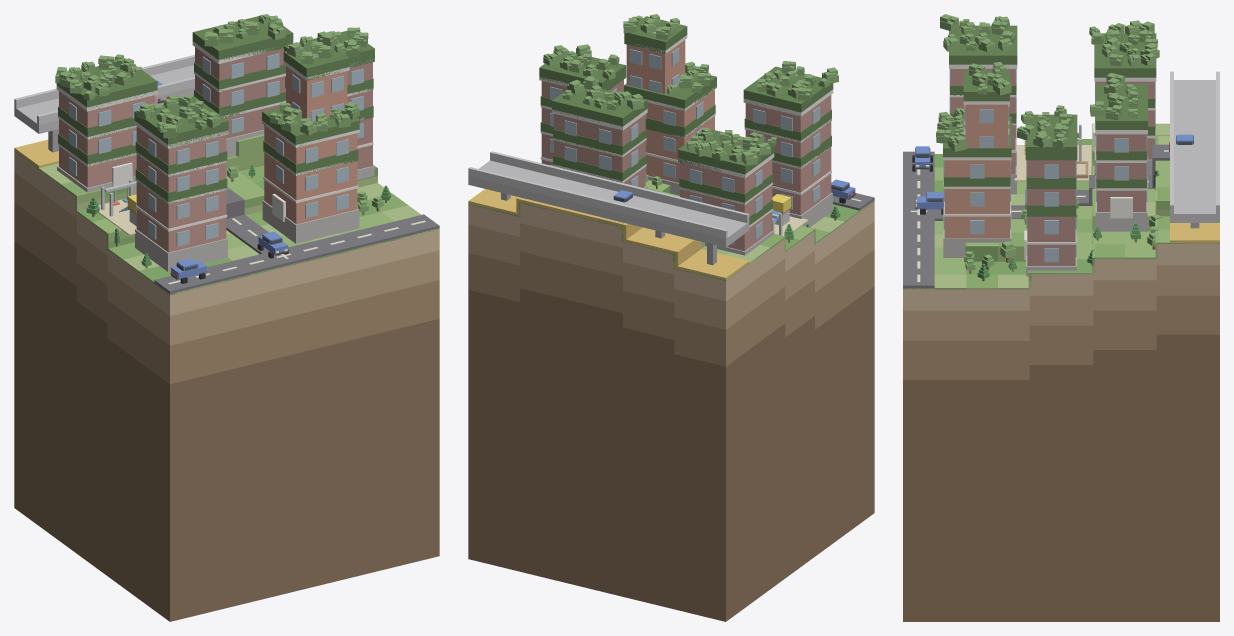
Rendered from block_6_greenroof_60.glb.
3 renders of one model, left to right at view 1: azimuth 30°, elevation 25°; view 2: azimuth 150°, elevation 25°; view 3: azimuth 270°, elevation 25°, orthographic. The views are drawn at different scales.
Parts seen in each view (by area): view 1: Patch_UpperLeft_b01_GR, Res_UL_04_GR, Res_UL_01_GR, Green_UpperLeft_j4_b01_GR, Roads_UpperLeft_b01_GR, Res_UL_00_GR, Res_UL_02_GR, GR_Roof_Res_UL_02_GR, GR_Roof_Res_UL_01_GR, GR_Roof_Res_UL_04_GR, Bridge_UpperLeft_b01_GR, GR_Roof_Res_UL_00_GR (+5 smaller); view 2: Patch_UpperLeft_b01_GR, Bridge_UpperLeft_b01_GR, Res_UL_01_GR, Res_UL_04_GR, Res_UL_00_GR, Paver_UpperLeft_b01_GR, Res_UL_02_GR, GR_Roof_Res_UL_02_GR, GR_Roof_Res_UL_04_GR, GR_Roof_Res_UL_01_GR, Green_UpperLeft_j4_b01_GR, GR_Roof_Res_UL_00_GR (+3 smaller); view 3: Patch_UpperLeft_b01_GR, Green_UpperLeft_j4_b01_GR, Res_UL_04_GR, Bridge_UpperLeft_b01_GR, Roads_UpperLeft_b01_GR, Res_UL_03_GR, Res_UL_02_GR, GR_Roof_Res_UL_03_GR, GR_Roof_Res_UL_02_GR, GR_Roof_Res_UL_04_GR, GR_Roof_Res_UL_01_GR, GR_Roof_Res_UL_00_GR (+6 smaller).
Boxes of the visible parts, box(x1,y1,x2,y2) form: Patch_UpperLeft_b01_GR: box(14, 152, 439, 621); Res_UL_04_GR: box(262, 51, 359, 243); Res_UL_01_GR: box(134, 120, 228, 271); Green_UpperLeft_j4_b01_GR: box(14, 134, 439, 294); Roads_UpperLeft_b01_GR: box(154, 187, 439, 295); Res_UL_00_GR: box(56, 85, 157, 194); Res_UL_02_GR: box(192, 41, 285, 157); GR_Roof_Res_UL_02_GR: box(192, 14, 293, 117); GR_Roof_Res_UL_01_GR: box(134, 96, 228, 203); GR_Roof_Res_UL_04_GR: box(262, 45, 359, 175); Bridge_UpperLeft_b01_GR: box(14, 55, 194, 152); GR_Roof_Res_UL_00_GR: box(56, 65, 157, 165); Patch_UpperLeft_b01_GR: box(468, 201, 874, 621); Bridge_UpperLeft_b01_GR: box(468, 151, 749, 265); Res_UL_01_GR: box(743, 89, 833, 227); Res_UL_04_GR: box(625, 27, 716, 195); Res_UL_00_GR: box(678, 153, 774, 255); Paver_UpperLeft_b01_GR: box(468, 189, 749, 280); Res_UL_02_GR: box(552, 109, 647, 188); GR_Roof_Res_UL_02_GR: box(552, 84, 647, 182); GR_Roof_Res_UL_04_GR: box(624, 16, 716, 137); GR_Roof_Res_UL_01_GR: box(743, 66, 833, 168); Green_UpperLeft_j4_b01_GR: box(468, 180, 874, 281); GR_Roof_Res_UL_00_GR: box(678, 129, 774, 225); Patch_UpperLeft_b01_GR: box(903, 244, 1219, 621); Green_UpperLeft_j4_b01_GR: box(903, 123, 1219, 289); Res_UL_04_GR: box(943, 101, 1011, 257); Bridge_UpperLeft_b01_GR: box(1170, 71, 1219, 228); Roads_UpperLeft_b01_GR: box(903, 144, 1169, 289); Res_UL_03_GR: box(1024, 160, 1076, 276); Res_UL_02_GR: box(1095, 130, 1147, 231); GR_Roof_Res_UL_03_GR: box(1025, 114, 1077, 216); GR_Roof_Res_UL_02_GR: box(1095, 84, 1147, 188); GR_Roof_Res_UL_04_GR: box(943, 70, 1011, 186); GR_Roof_Res_UL_01_GR: box(949, 25, 1017, 125); GR_Roof_Res_UL_00_GR: box(1094, 33, 1156, 135).
Size of the model in its own units: 9.5 by 16.87 by 9.5.
